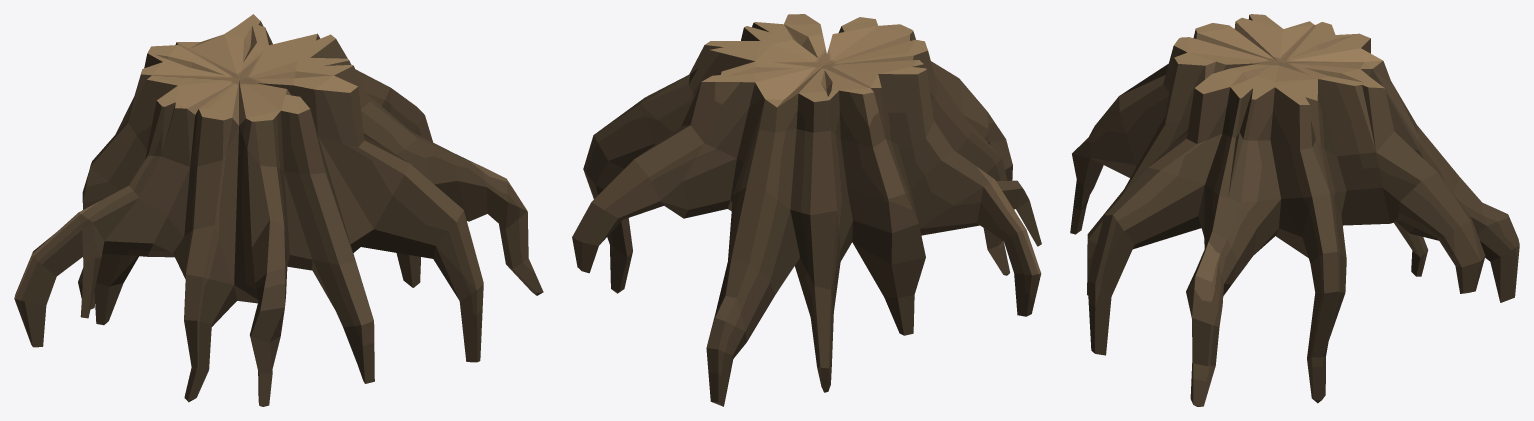
The model's file is SM_Prop_Stump_02.fbx.
3 renders of one model, left to right at view 1: azimuth 30°, elevation 25°; view 2: azimuth 150°, elevation 25°; view 3: azimuth 270°, elevation 25°, orthographic. The views are drawn at different scales.
Parts seen in each view (by area): view 1: SM_Prop_Stump_02; view 2: SM_Prop_Stump_02; view 3: SM_Prop_Stump_02.
Boxes of the visible parts, box(x1,y1,x2,y2) form: SM_Prop_Stump_02: box(14, 14, 543, 406); SM_Prop_Stump_02: box(572, 14, 1041, 406); SM_Prop_Stump_02: box(1070, 14, 1519, 406).
Size of the model in its own units: 303 by 166 by 262.
1 material, 1 textured.
